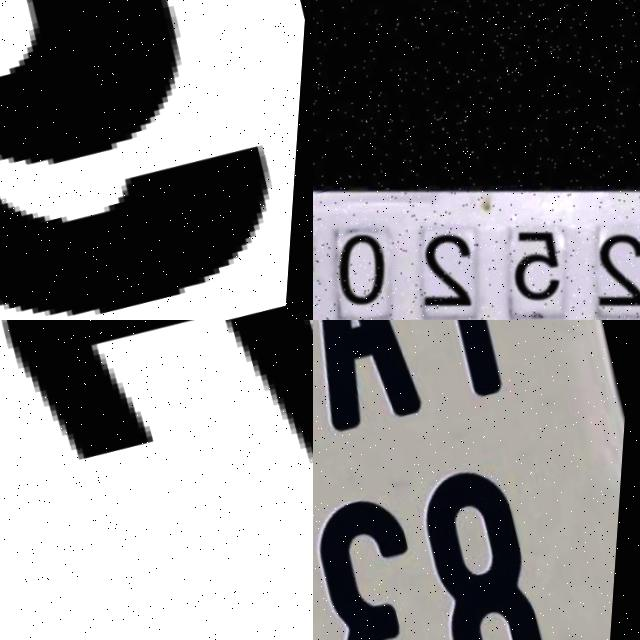0: (316, 200, 423, 320)
2: (402, 202, 507, 320), (574, 197, 640, 320)
3: (313, 479, 477, 640)
5: (490, 194, 600, 320)
8: (404, 450, 581, 640), (313, 203, 336, 320)
A: (313, 320, 440, 431)
G: (0, 0, 313, 320)
R: (0, 320, 313, 640)
Y: (371, 320, 542, 408)
